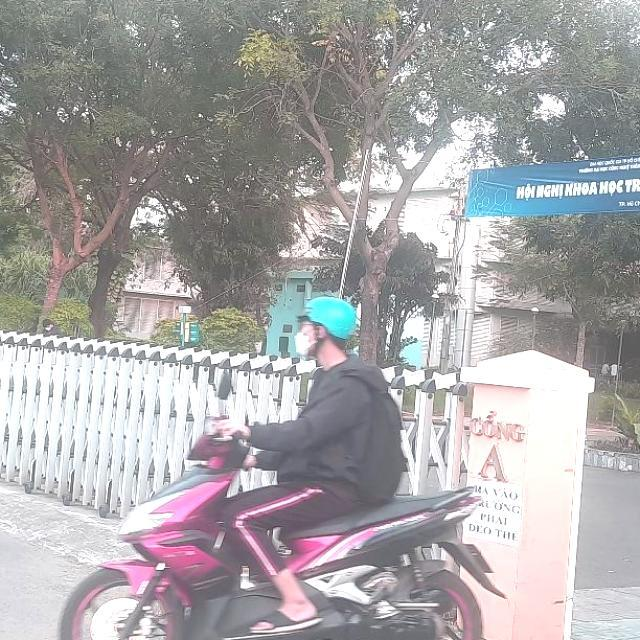Helmet: (287, 294, 359, 365)
